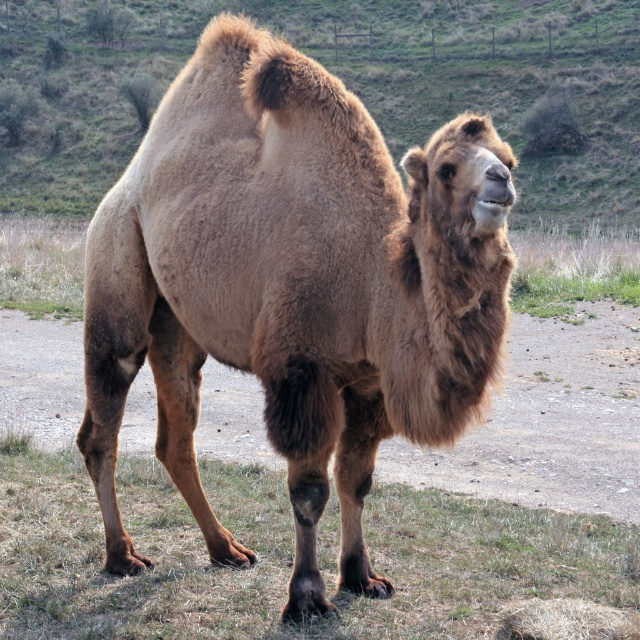Camel: (76, 7, 523, 624)
